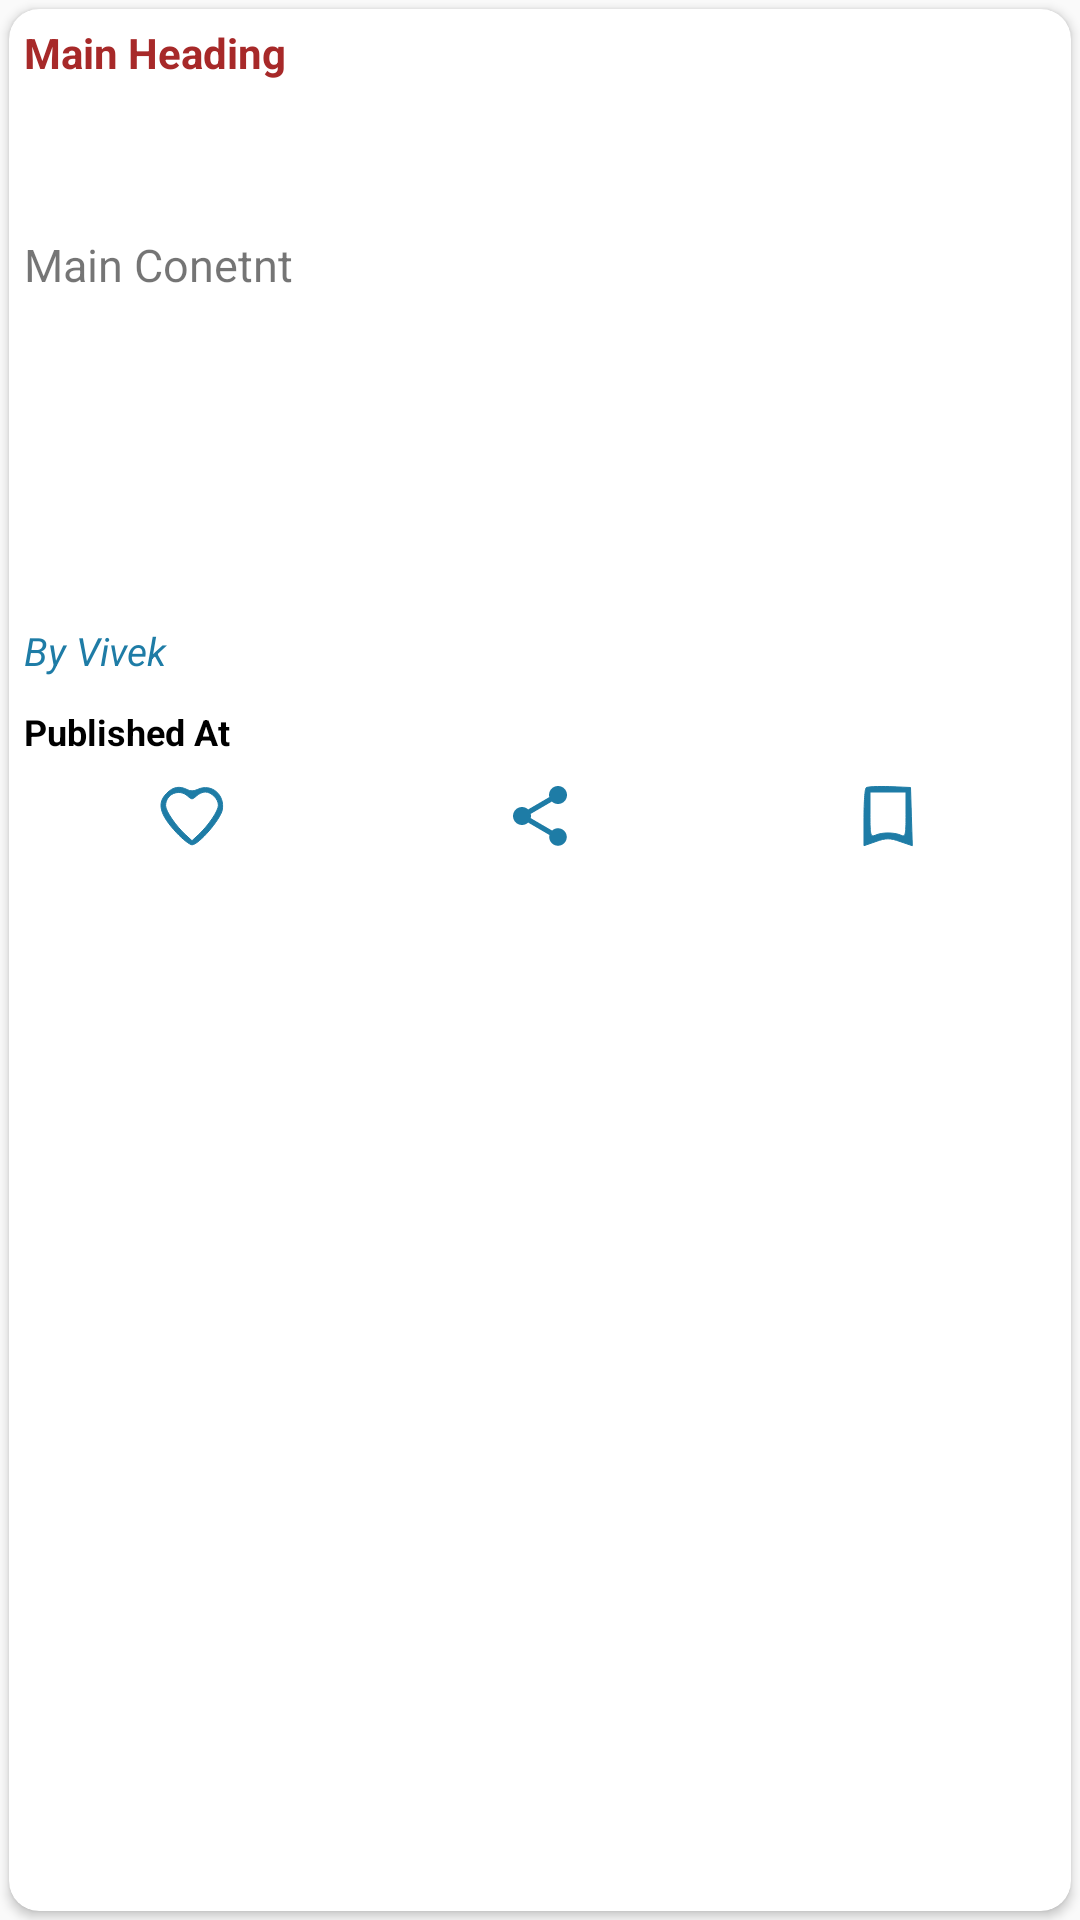

Icon click points for this 1080px×1920px phone screenshot, format [x,y]:
heart: [191,816]
save: [888,816]
share: [540,816]
